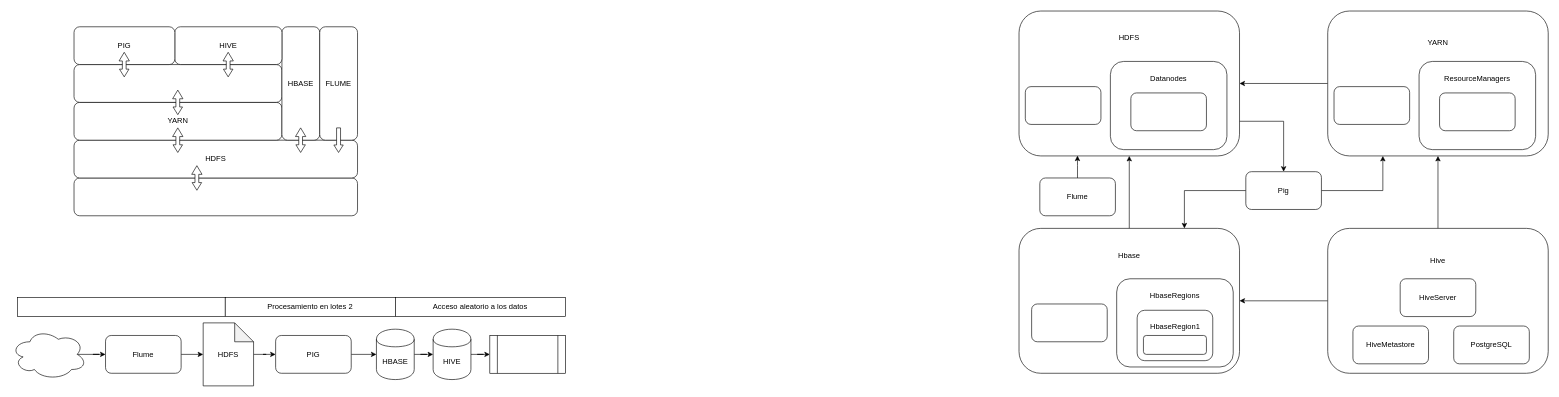
The diagram is 1559 pixels wide and 397 high, and some of its shapes have lost their labels. The shapes that lost their labels are listed below. From the top down, each one's centre as x and y in pixels, then its label:
At (177,83): "MAPREDUCE".
At (1063,105): "Namenode".
At (1168,111): "Datanode1".
At (1371,105): "HistoryServer".
At (1477,111): "ResourceManager1".
At (215,196): "Hardware Virtualizado + OS".
At (121,307): "Procesamiento en lotes 1".
At (1069,322): "HbaseMaster".
At (48,354): "Twitter".
At (527,354): "RapidMiner".
At (1174,344): "Zookeeper1".
